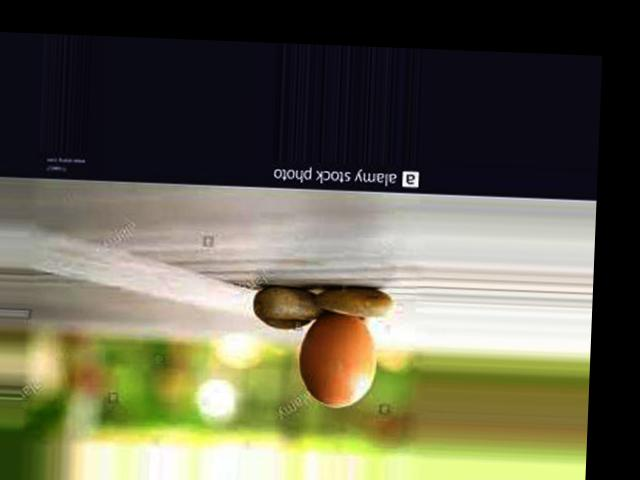egg: (296, 311, 379, 407)
